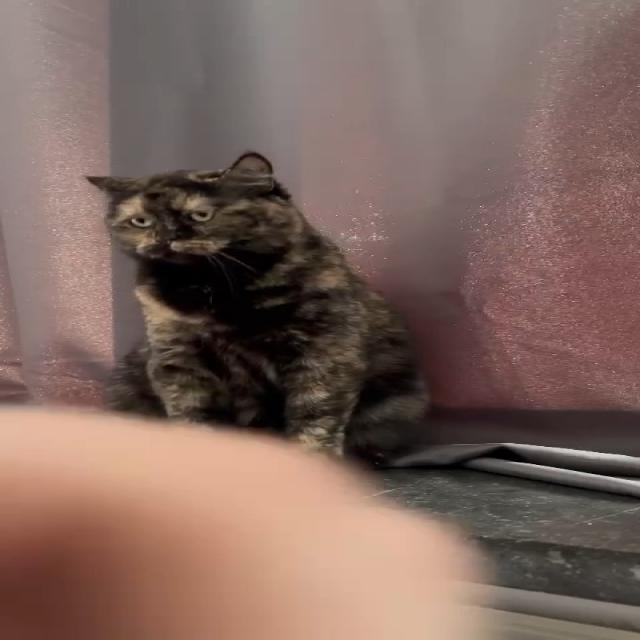authorized: (83, 150, 432, 461)
